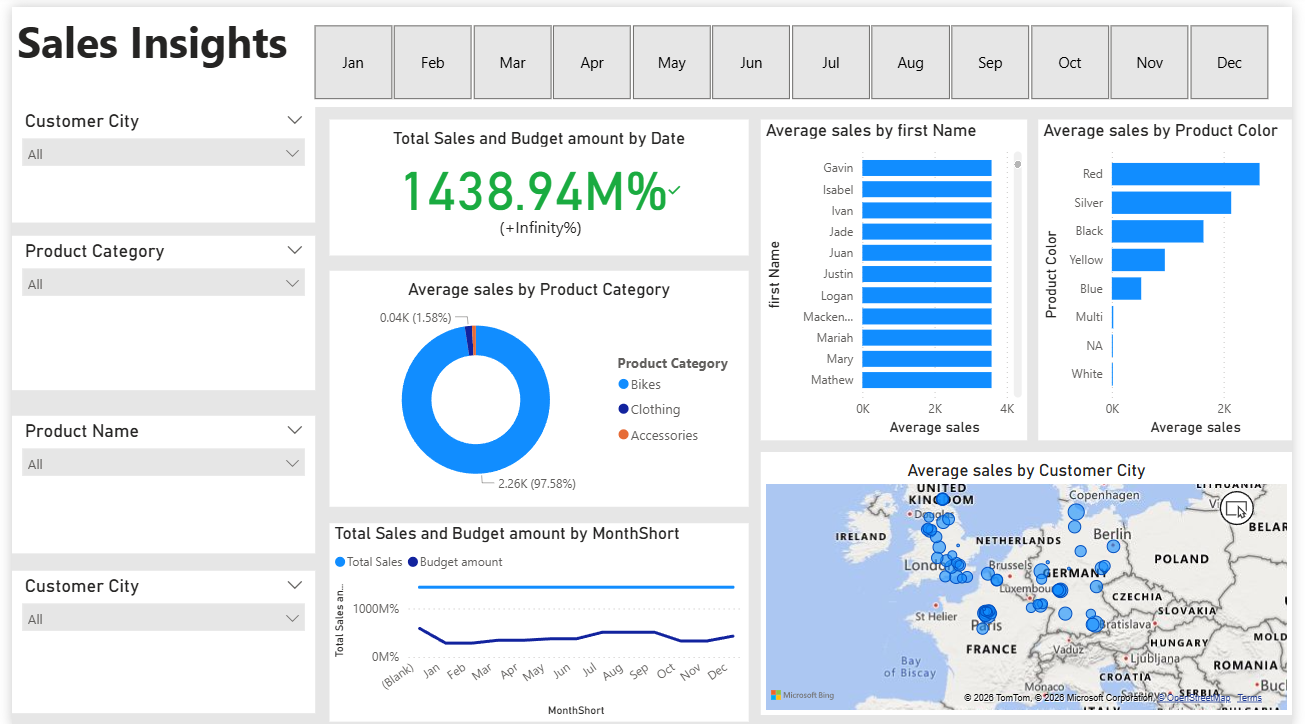

Layout of this report page (visuals, bound fields, positions):
{"tool":"powerbi","page":{"name":"Sales Insights","canvas":[1280,720],"ordinal":0},"visuals":[{"type":"textbox","box":[0,0,1280,100],"z":0},{"type":"slicer","fields":{"Values":["Dimension Customer.Customer City"]},"box":[0,99.4,303.2,117.2],"z":1000},{"type":"slicer","fields":{"Values":["Dimension Customer.Customer City"]},"box":[0,564.3,303.2,142.7],"z":2000},{"type":"slicer","fields":{"Values":["Dimension Product.Product Name"]},"box":[0,408.9,303.2,137.6],"z":3000},{"type":"slicer","fields":{"Values":["Dimension Product.Product Category"]},"box":[0,229.3,303.2,154.1],"z":4000},{"type":"slicer","fields":{"Values":["Dimension Date.MonthShort"]},"box":[276.4,11.5,1003.8,87.9],"z":5000},{"type":"kpi","fields":{"Indicator":["Measurements.Total Sales"],"TrendLine":["Dimension Date.Date"],"Goal":["Measurements.Budget amount"]},"box":[317.2,112.1,419.1,136.3],"z":6000},{"type":"donutChart","fields":{"Category":["Dimension Product.Product Category"],"Y":["Measurements.Average sales"]},"box":[317.2,263.7,419.1,235.7],"z":7000},{"type":"map","fields":{"Category":["Dimension Customer.Customer City"],"Size":["Measurements.Average sales"]},"box":[749,444.6,531.2,262.4],"z":8000},{"type":"lineChart","fields":{"Category":["Dimension Date.MonthShort"],"Y":["Measurements.Total Sales","Measurements.Budget amount"]},"box":[317.2,515.9,419.1,198.7],"z":9000},{"type":"barChart","fields":{"Y":["Measurements.Average sales"],"Category":["Dimension Customer.first Name"]},"box":[749,112.1,266.2,321],"z":10000},{"type":"barChart","fields":{"Y":["Measurements.Average sales"],"Category":["Dimension Product.Product Color"]},"box":[1026.8,112.1,253.5,321],"z":11000}]}

Visuals, with their boxes in screenshot pixels (x1, y1, x2, y2), scaled from the page's 1280x720 canvas onto the 1305x724 screenshot:
textbox: [0, 0, 1304, 101]
slicer - Dimension Customer.Customer City: [0, 100, 309, 218]
slicer - Dimension Customer.Customer City: [0, 567, 309, 711]
slicer - Dimension Product.Product Name: [0, 411, 309, 550]
slicer - Dimension Product.Product Category: [0, 231, 309, 386]
slicer - Dimension Date.MonthShort: [282, 12, 1304, 100]
kpi - Measurements.Total Sales x Dimension Date.Date: [323, 113, 751, 250]
donutChart - Dimension Product.Product Category x Measurements.Average sales: [323, 265, 751, 502]
map - Dimension Customer.Customer City x Measurements.Average sales: [764, 447, 1304, 711]
lineChart - Dimension Date.MonthShort x Measurements.Total Sales: [323, 519, 751, 719]
barChart - Measurements.Average sales x Dimension Customer.first Name: [764, 113, 1035, 436]
barChart - Measurements.Average sales x Dimension Product.Product Color: [1047, 113, 1304, 436]
